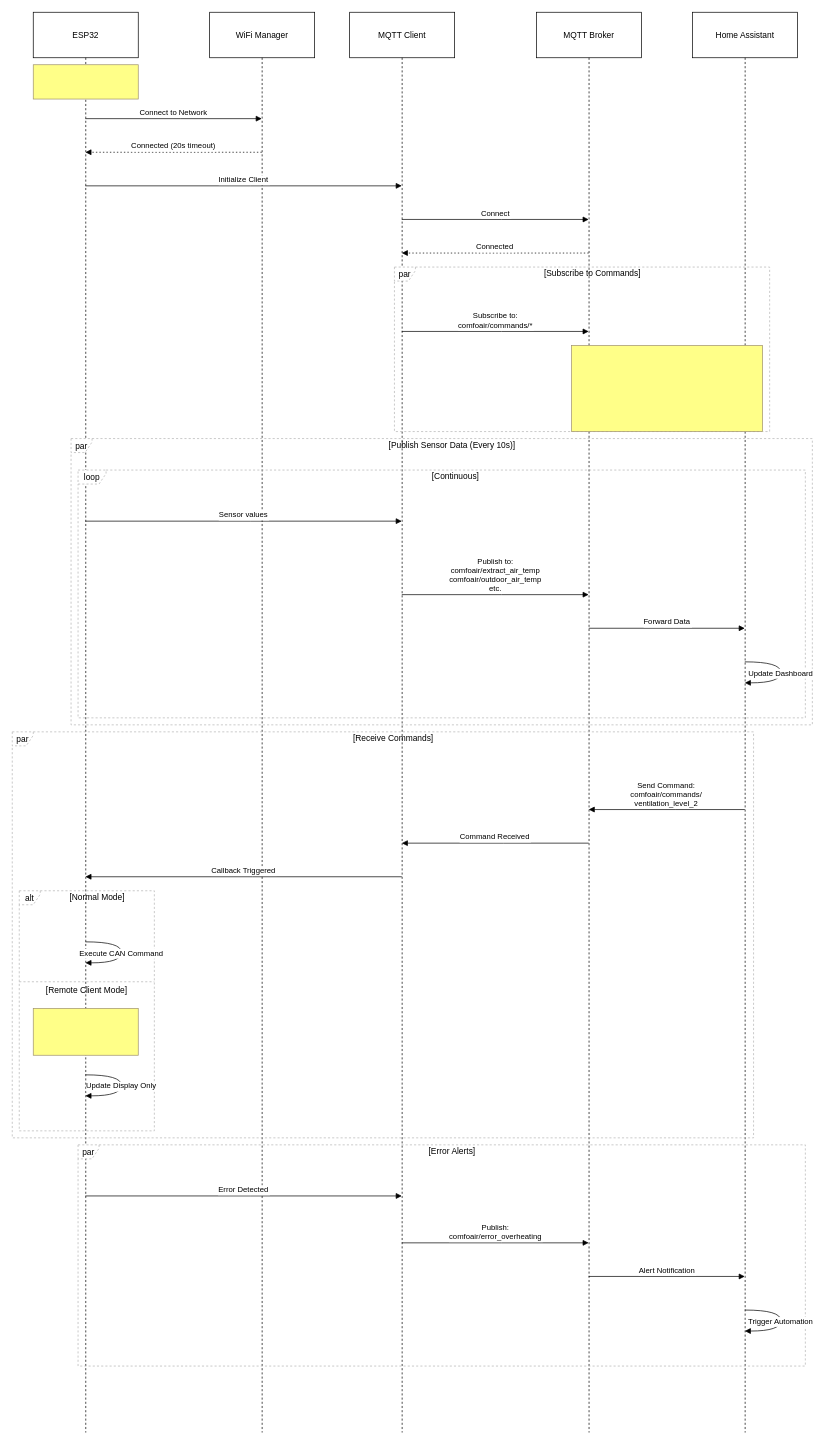
This 826x1445 diagram has some shape labels left out. The shapes that lost their labels are listed below. From the top down, each one's centre as x and y in pixels, then its label:
At point 85,81: "Startup".
At point 667,388: "Command topics: - ventilation_level - boost_* - temp_profile_* - update_all".
At point 85,1031: "Command from bridge device".
